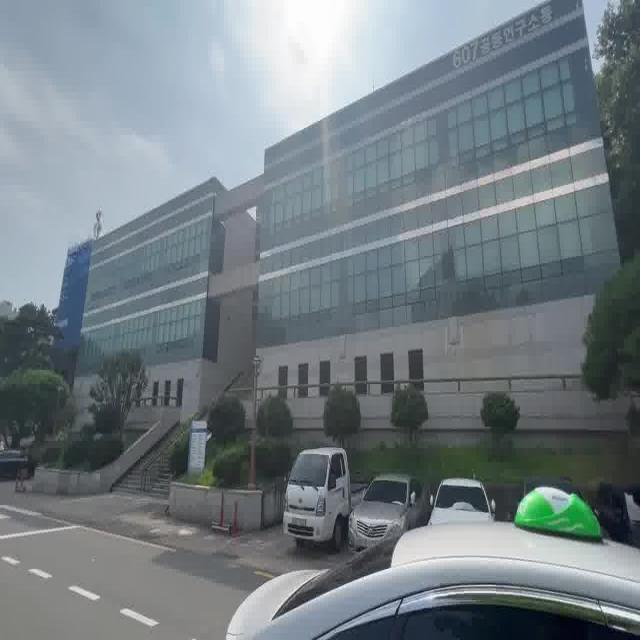building: (107, 26, 573, 424)
